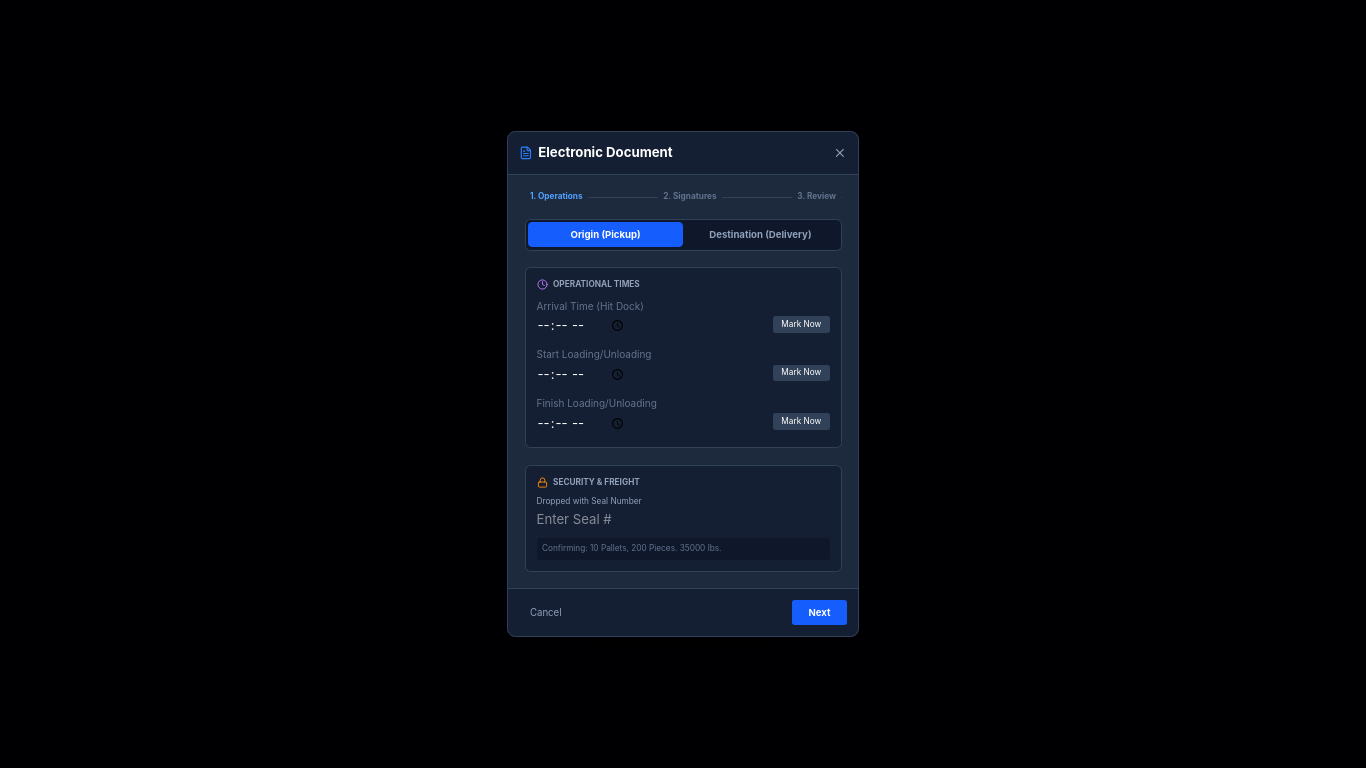
it: BolGenerator › navigates to step 2 when Next is clicked
The width and height of the screenshot is (1366, 768).
Click the button "Next".
click(819, 613)  # box [792,600,847,625]
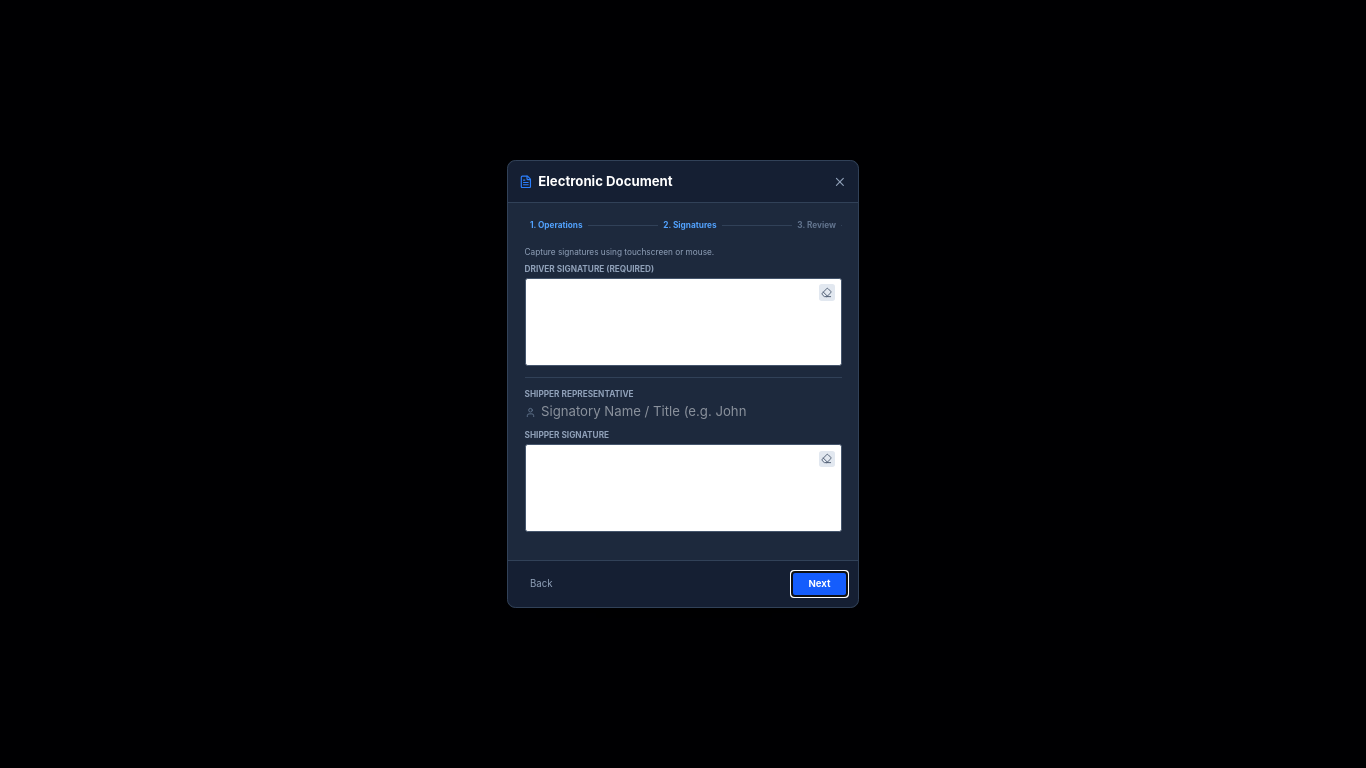
expect the text "Capture signatures using touchscreen or mouse." is shown: met, box [524,247,714,257]
expect the text "Driver Signature (Required)" is shown: met, box [524,264,654,274]
